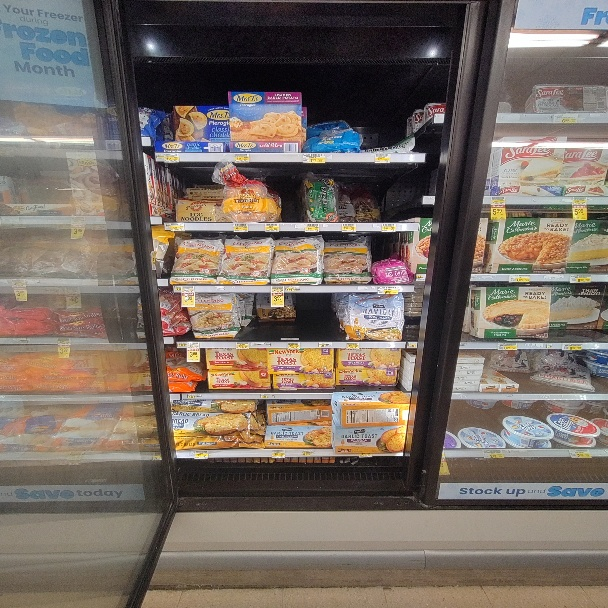All PRICE TAGS: (568, 448, 592, 458), (554, 114, 577, 123), (377, 285, 400, 294), (570, 274, 590, 283), (482, 450, 503, 458), (304, 154, 325, 162), (374, 153, 390, 163), (163, 153, 180, 162), (269, 285, 286, 293), (233, 223, 248, 232), (563, 343, 582, 350), (498, 343, 517, 350), (510, 275, 529, 282), (169, 223, 185, 231), (382, 223, 396, 232), (271, 449, 285, 458), (233, 154, 248, 162), (178, 286, 195, 293), (56, 337, 70, 345), (305, 224, 319, 232), (572, 197, 586, 205), (264, 224, 280, 231), (318, 341, 334, 348), (287, 342, 302, 349), (11, 279, 24, 287), (234, 341, 251, 347), (255, 341, 272, 347), (491, 198, 505, 205), (186, 341, 200, 348), (346, 342, 360, 349), (194, 451, 208, 458), (342, 224, 356, 230)
